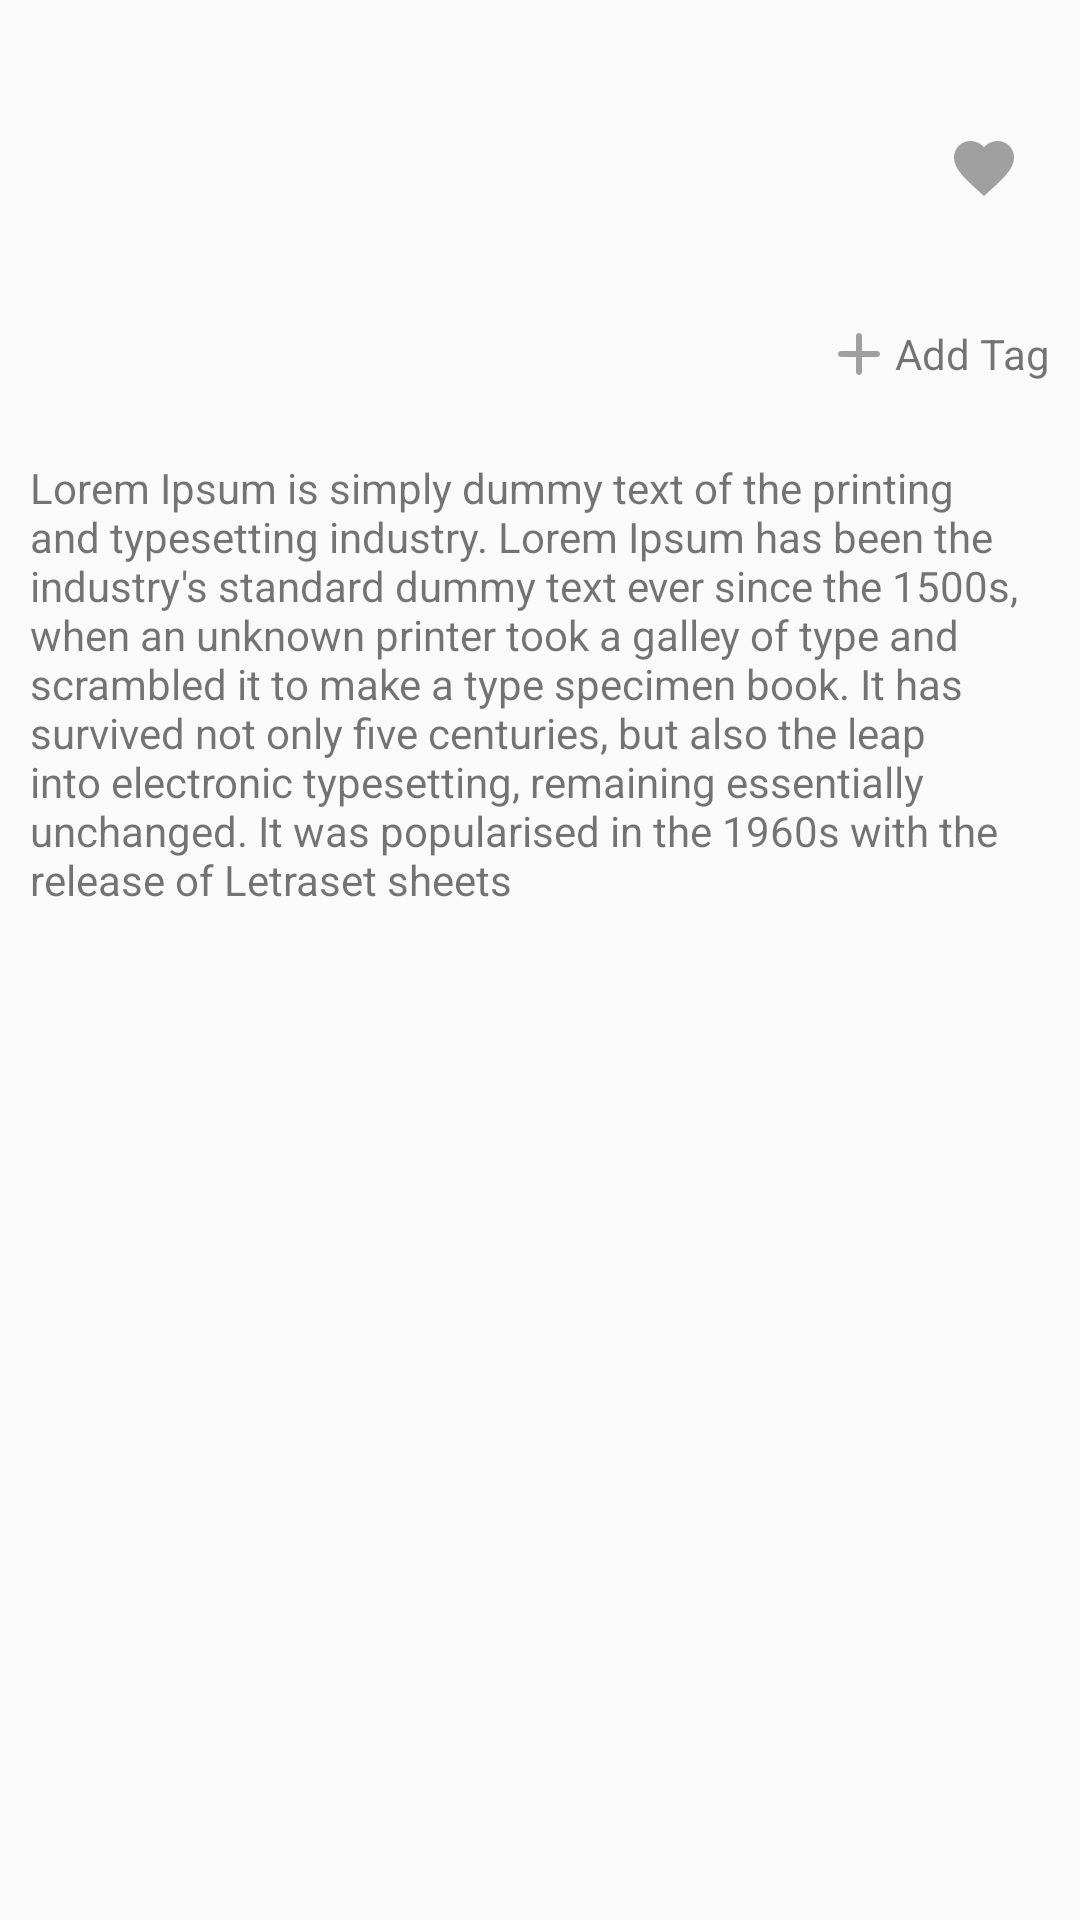

Where icons sit on this 1080x1920 app screen, as (x1=x1, y1=y1, x2=x2, y2=y2):
favorite: (x1=954, y1=141, x2=1014, y2=196)
